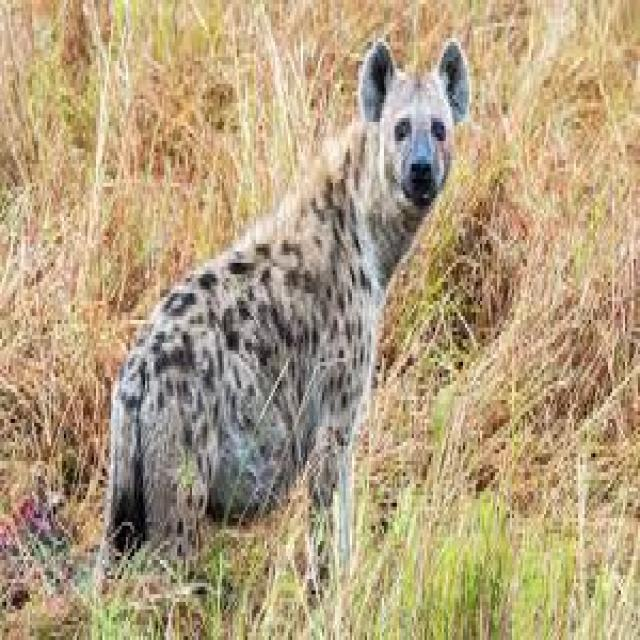Hyena: (98, 36, 474, 598)
